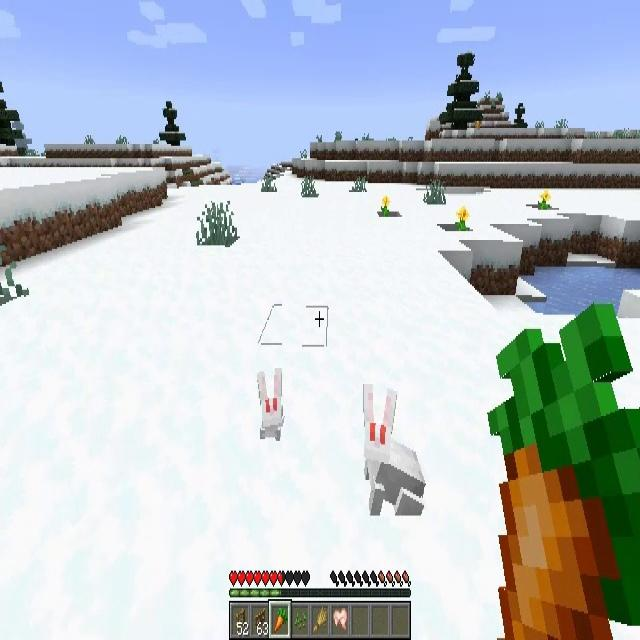flower: (456, 208, 469, 230), (538, 192, 551, 210), (381, 196, 390, 218)
rabbit: (360, 383, 426, 518), (257, 364, 285, 444)
